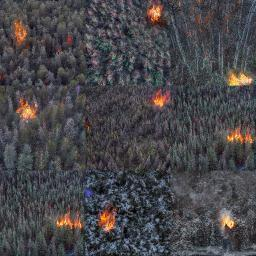Small fire: (214, 206, 251, 236), (221, 62, 256, 93), (219, 126, 256, 144), (150, 86, 170, 111), (56, 210, 78, 232), (145, 1, 165, 23), (97, 208, 117, 228), (18, 99, 34, 118), (12, 22, 25, 45)
